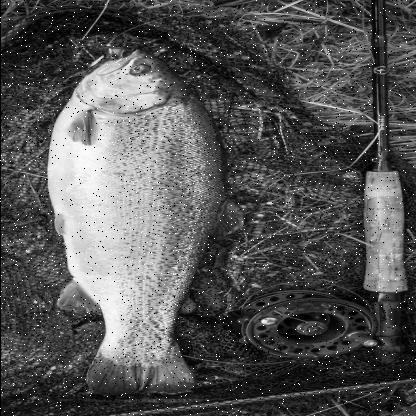fish: (43, 49, 244, 396)
